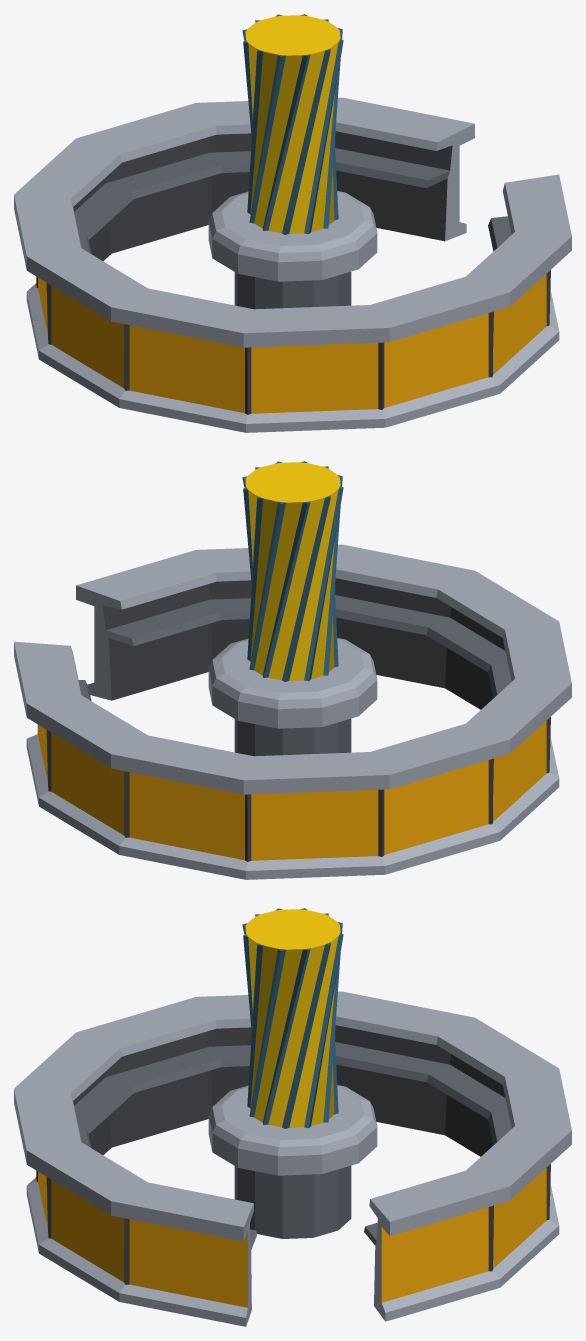
Rendered from Bar_1.fbx.
The picture shows the model from 3 angles, top to bottom: view 1: azimuth 30°, elevation 25°; view 2: azimuth 150°, elevation 25°; view 3: azimuth 270°, elevation 25°; orthographic projection.
Parts seen in each view (by area): view 1: Bar_1, Bar_1_decor; view 2: Bar_1, Bar_1_decor; view 3: Bar_1, Bar_1_decor.
Part boxes in pixels (box(x1,y1,x2,y2)): Bar_1: box(14, 97, 571, 432); Bar_1_decor: box(208, 14, 377, 309); Bar_1: box(14, 544, 571, 879); Bar_1_decor: box(208, 461, 377, 756); Bar_1: box(14, 991, 571, 1326); Bar_1_decor: box(208, 908, 377, 1238).
Size of the model in its own units: 510 by 287 by 510.
